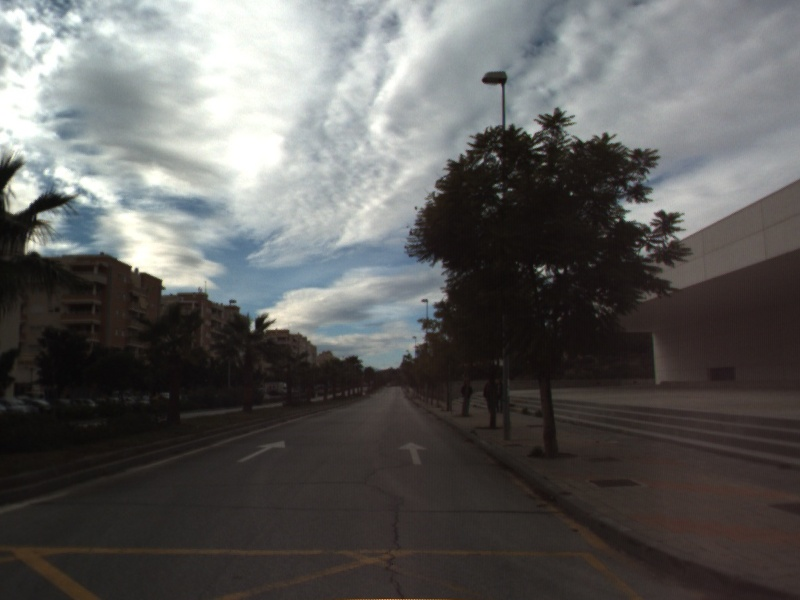STRAIGHT: (235, 438, 287, 464), (396, 440, 430, 466)
